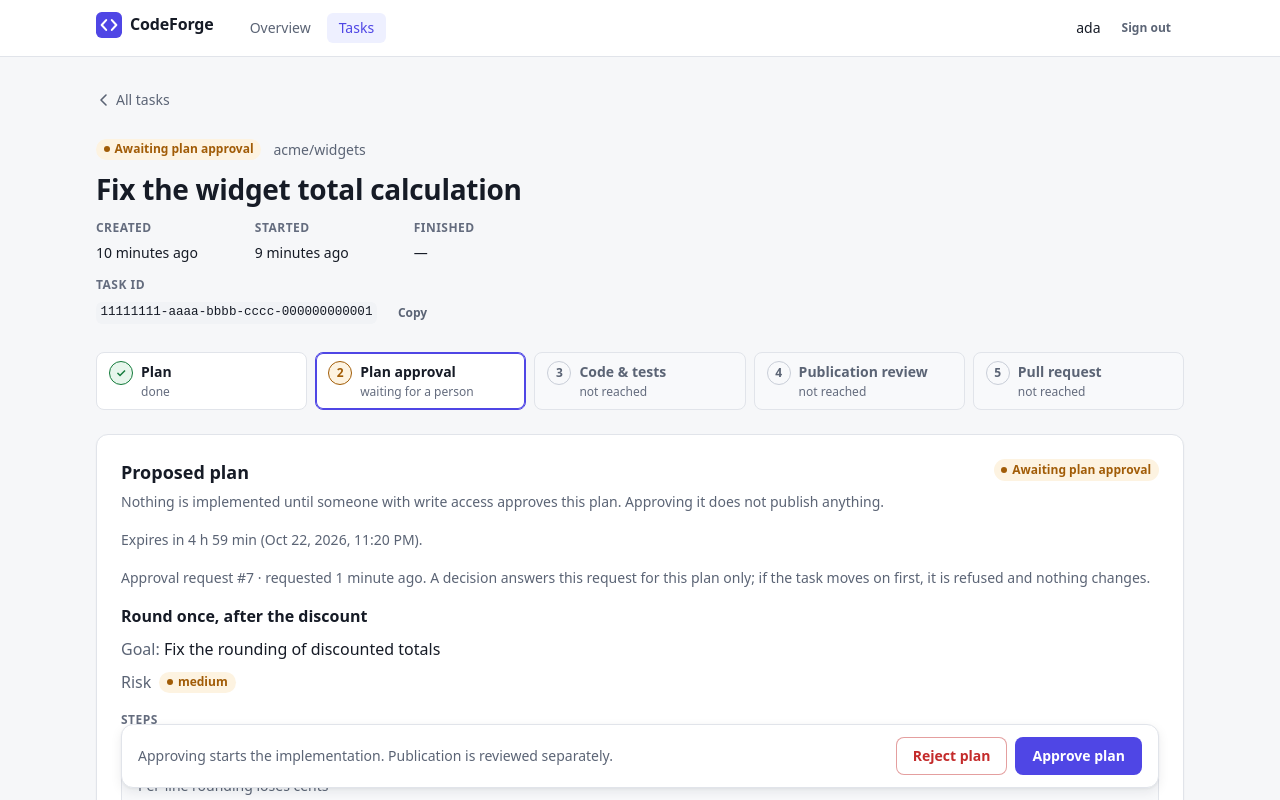
Test: plan review › names the approval request a decision answers
expect the text "Approval request #7 · requested" shows "A decision answers this request for this plan only": met, box [423, 568, 1150, 587]
What coordinates should you click on to do the following:
click the button "Approve plan"
I would click on:
 (1079, 756)
Its box is [1016, 737, 1142, 775].
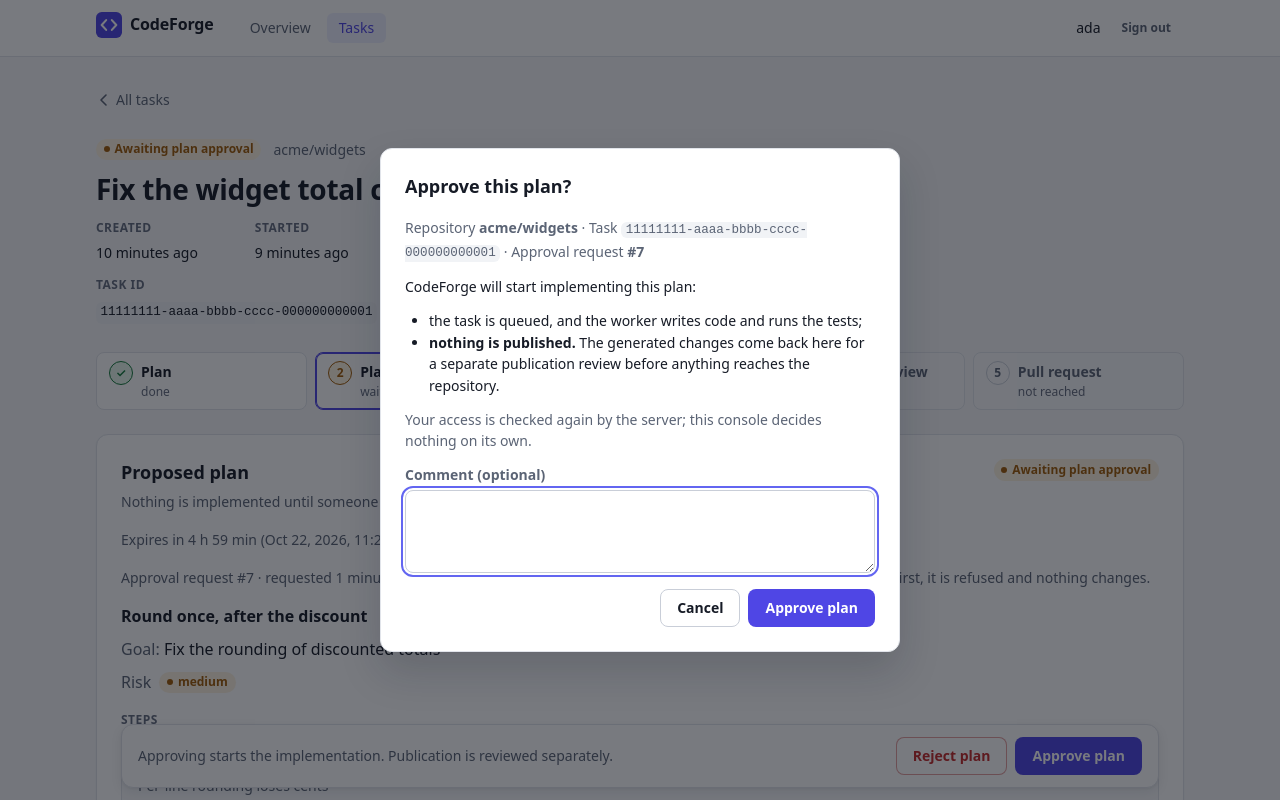
expect the text "Approval request" shows "#7": met, box [405, 217, 875, 264]
